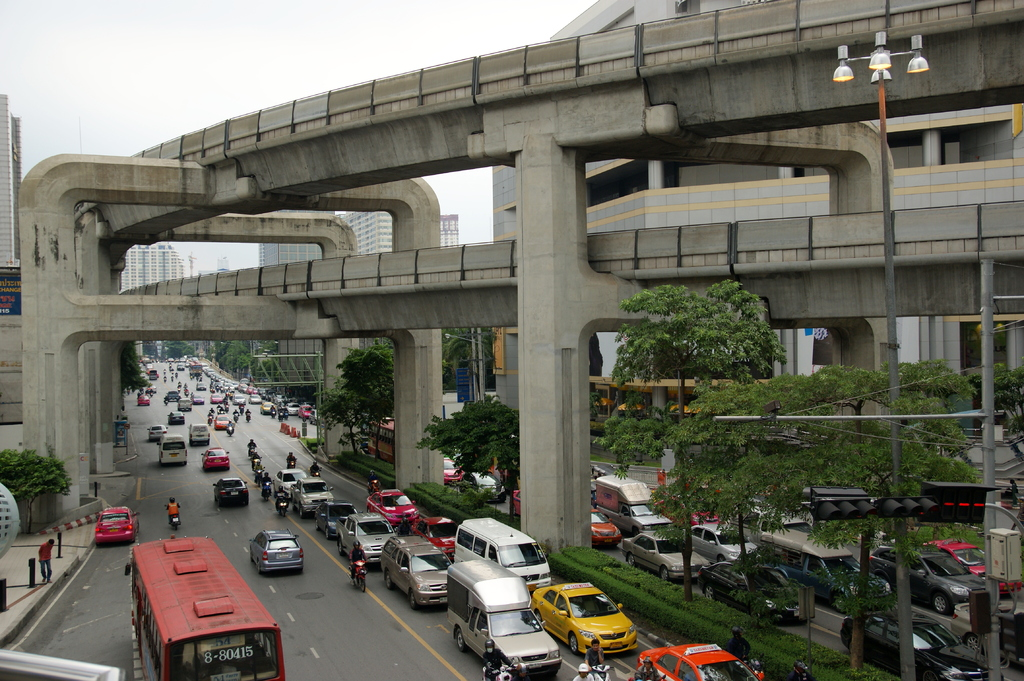Car: (270, 469, 456, 609), (838, 609, 1002, 680), (544, 584, 652, 668), (869, 542, 984, 616), (635, 618, 764, 680), (203, 362, 321, 422), (695, 561, 805, 625), (921, 540, 1022, 597), (619, 531, 707, 584), (952, 602, 1023, 665), (680, 525, 759, 566), (653, 497, 725, 531), (249, 529, 303, 574), (94, 505, 142, 547), (460, 472, 506, 503), (590, 508, 618, 547), (212, 477, 247, 504), (200, 447, 229, 471), (443, 456, 462, 481), (137, 359, 158, 378), (167, 354, 199, 366), (147, 423, 167, 439), (213, 414, 232, 428), (167, 410, 184, 422), (514, 490, 520, 519), (232, 393, 246, 405), (248, 393, 261, 405), (208, 392, 222, 403), (261, 401, 273, 413), (137, 394, 149, 405), (167, 391, 179, 402), (179, 400, 191, 410), (193, 394, 204, 403), (147, 384, 156, 394), (177, 363, 184, 369)
